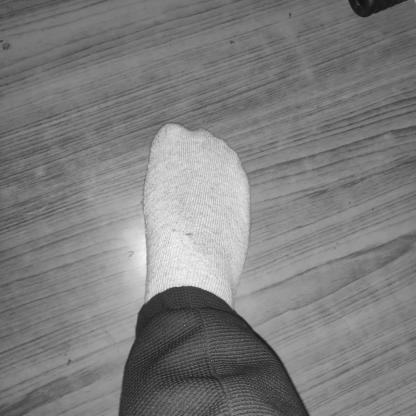ankle: (187, 286, 191, 291)
heel: (144, 306, 149, 312)
pinky: (242, 179, 245, 184)
right_foot: (141, 127, 250, 341)
toe: (161, 133, 165, 138)
